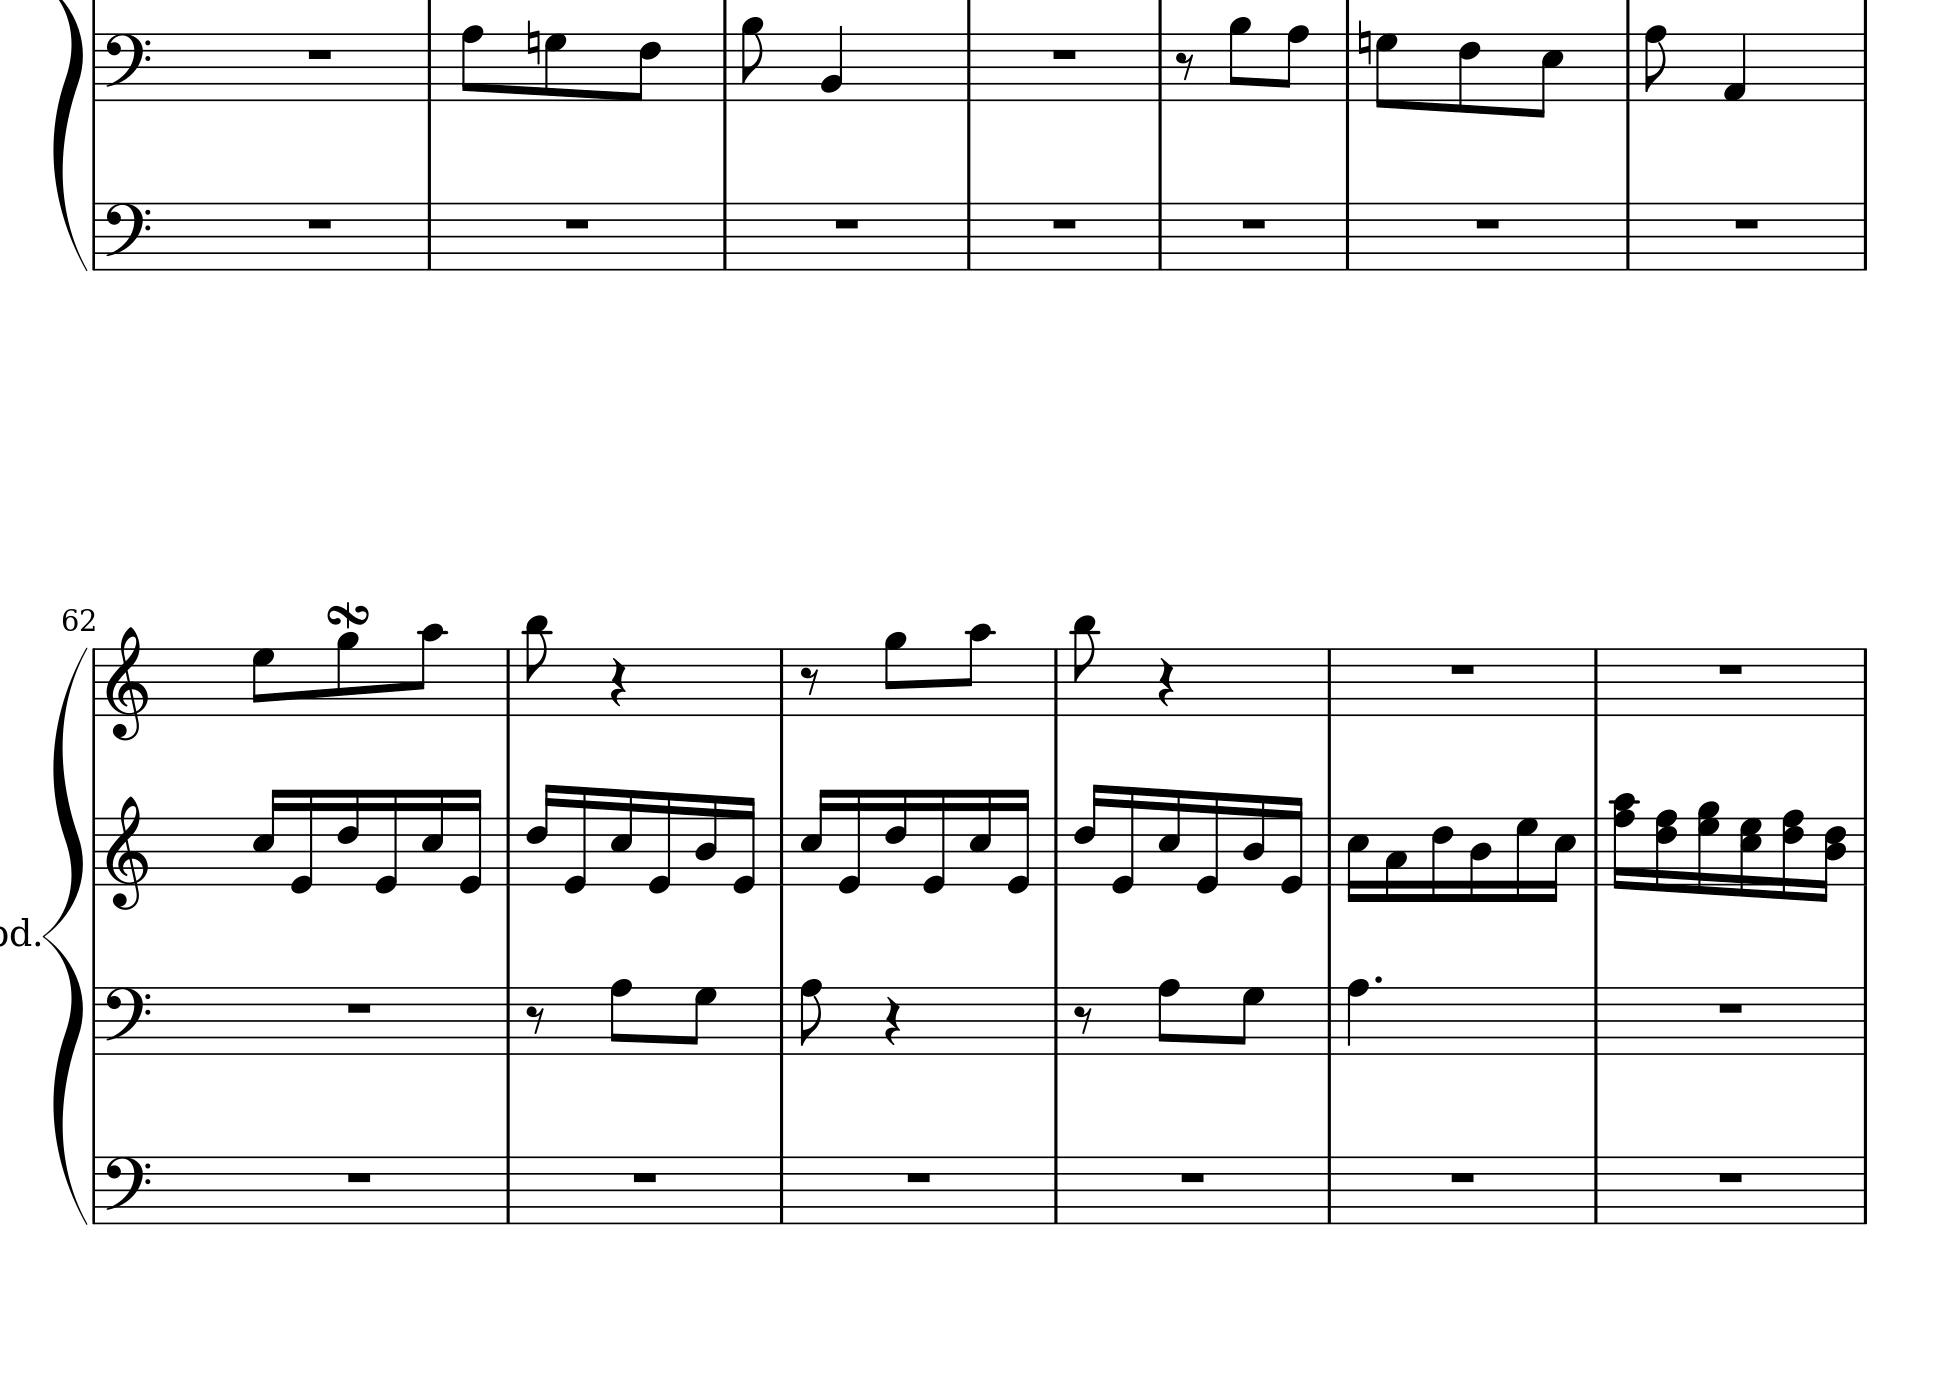16_0: (919, 786, 949, 895), (288, 787, 316, 895), (372, 787, 400, 895), (835, 787, 864, 895), (1194, 789, 1222, 895), (562, 784, 589, 895), (1110, 784, 1137, 895), (457, 787, 484, 895), (646, 789, 673, 897), (1005, 787, 1032, 895), (730, 793, 757, 895), (1278, 793, 1305, 894)
16_3: (1383, 814, 1408, 904)
16_4: (693, 792, 720, 886), (1242, 792, 1267, 886), (1468, 814, 1494, 904)
16_4_6: (1815, 816, 1848, 901)
16_5: (798, 786, 832, 886), (250, 786, 283, 886), (1546, 816, 1578, 903), (967, 786, 994, 885), (1156, 787, 1183, 886), (609, 786, 634, 886), (420, 787, 445, 886), (1345, 814, 1371, 904)
16_5_7: (1740, 816, 1765, 900)
16_6: (523, 781, 556, 886), (1072, 781, 1104, 886), (883, 787, 910, 886), (336, 787, 361, 886), (1429, 814, 1455, 903)
16_6_8: (1654, 808, 1681, 894), (1782, 808, 1806, 901)
16_7: (1513, 814, 1539, 904)
16_7_9: (1696, 799, 1722, 895)
16_8_10: (1608, 790, 1641, 891)
2: (79, 606, 97, 631)
4_1: (1722, 31, 1747, 102)
4_2: (820, 22, 844, 102)
4_8: (1345, 976, 1371, 1056)
6: (61, 604, 79, 631)
8_10: (957, 622, 993, 717), (411, 621, 445, 718)
8_11: (523, 613, 550, 718), (1072, 613, 1099, 718)
8_5: (1531, 30, 1564, 120)
8_6: (628, 31, 661, 103), (1456, 30, 1482, 115)
8_7: (684, 985, 717, 1056), (1233, 985, 1266, 1056), (1374, 31, 1398, 109), (543, 31, 568, 103), (250, 646, 276, 718)
8_8: (1275, 22, 1309, 103), (1155, 976, 1182, 1057), (1642, 22, 1669, 102), (459, 22, 484, 103), (607, 976, 633, 1057), (798, 976, 823, 1056)
8_9: (739, 15, 765, 103), (1227, 15, 1252, 103), (334, 630, 360, 718), (883, 630, 907, 718)
Brace: (46, 1, 81, 276)
Bracke: (52, 640, 85, 1222)
Fclef: (103, 31, 151, 100), (102, 1153, 153, 1218), (102, 199, 151, 265), (103, 985, 151, 1048)
Gclef: (103, 793, 150, 910), (105, 624, 150, 742)
Natural: (525, 18, 541, 67), (1356, 18, 1372, 67)
Rests1: (304, 45, 334, 63), (304, 214, 334, 232), (562, 214, 592, 232), (832, 214, 862, 232), (1050, 214, 1080, 232), (1239, 214, 1269, 232), (1473, 214, 1503, 232), (1731, 214, 1761, 232), (343, 999, 373, 1017), (1716, 999, 1746, 1017), (343, 1168, 373, 1186), (1716, 1168, 1746, 1186), (1447, 660, 1479, 676), (903, 1168, 934, 1185), (1447, 1168, 1479, 1185), (1050, 46, 1080, 63), (1716, 660, 1746, 676), (630, 1168, 660, 1185), (1179, 1168, 1207, 1185)
Rests4: (1155, 654, 1179, 709), (607, 654, 630, 709), (882, 994, 903, 1047)
Rests8: (1174, 49, 1197, 82), (523, 1003, 546, 1036), (1072, 1003, 1095, 1035), (799, 664, 820, 697)
Single_barline: (1320, 985, 1339, 1054), (420, 33, 439, 100), (1587, 817, 1605, 886), (1587, 648, 1605, 715), (499, 817, 517, 885), (772, 817, 790, 885), (1047, 817, 1065, 885), (1320, 817, 1338, 885), (1855, 817, 1873, 885), (1587, 987, 1605, 1054), (772, 649, 790, 715), (1047, 649, 1065, 715), (1320, 649, 1338, 715), (1047, 987, 1065, 1053), (1587, 1156, 1605, 1222), (772, 1156, 790, 1222), (1047, 1156, 1065, 1222), (87, 33, 103, 100), (717, 33, 733, 100), (1620, 33, 1636, 100), (1857, 33, 1873, 100), (960, 202, 976, 270), (1620, 202, 1636, 270), (717, 202, 733, 270), (1152, 202, 1168, 270), (1857, 648, 1873, 715), (87, 817, 103, 885), (87, 985, 103, 1053), (960, 33, 976, 99), (1152, 33, 1168, 99), (1339, 34, 1356, 100), (499, 649, 516, 715), (499, 987, 516, 1053), (772, 987, 789, 1053), (87, 1156, 103, 1222), (1321, 1156, 1338, 1222), (499, 1156, 516, 1222), (421, 202, 436, 270), (1341, 202, 1356, 270), (87, 648, 102, 715), (1857, 987, 1872, 1054), (1857, 202, 1872, 268), (1857, 1156, 1872, 1222), (88, 202, 102, 268)
Turn_Slash: (325, 600, 370, 627)
dot: (1371, 972, 1386, 985)
